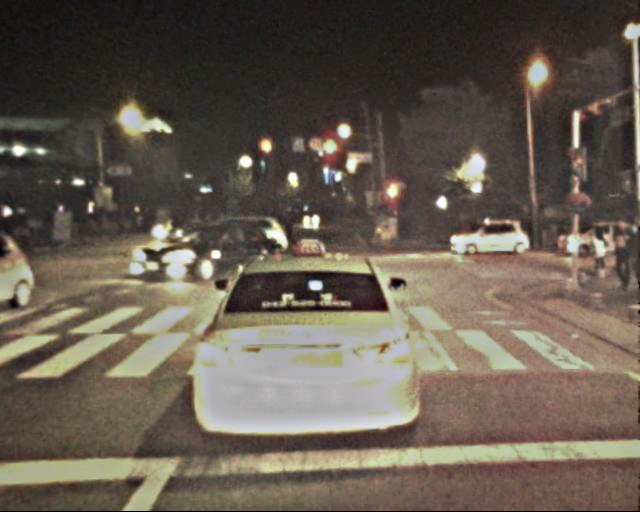person: (607, 219, 637, 292), (588, 229, 609, 280), (170, 213, 186, 252), (281, 214, 295, 248)
